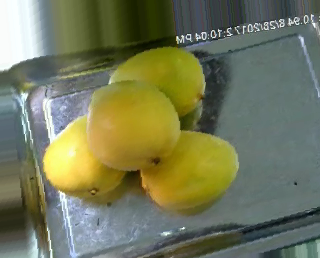Mango: (87, 80, 180, 171), (140, 131, 238, 209), (106, 46, 205, 119), (42, 115, 127, 196)
